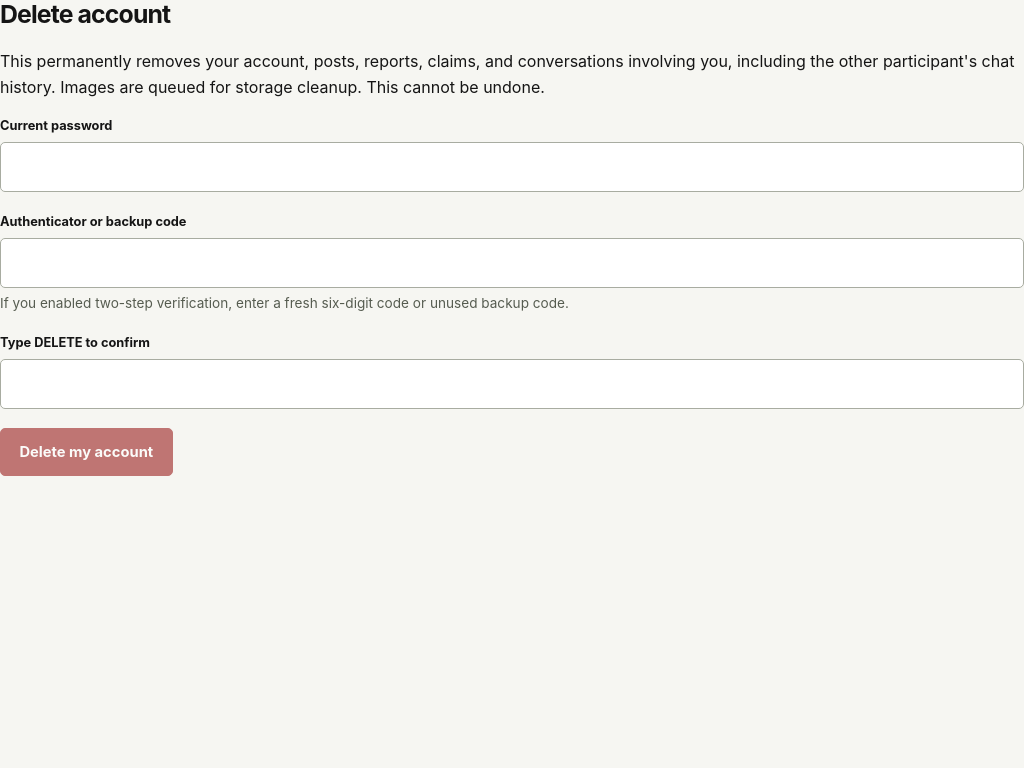
Test: failed account deletion clears credentials and requires a fresh explicit confirmation
The width and height of the screenshot is (1024, 768).
Type "A disposable passphrase" into the password field labelled "Current password" at (512, 167), box [0,142,1023,192]
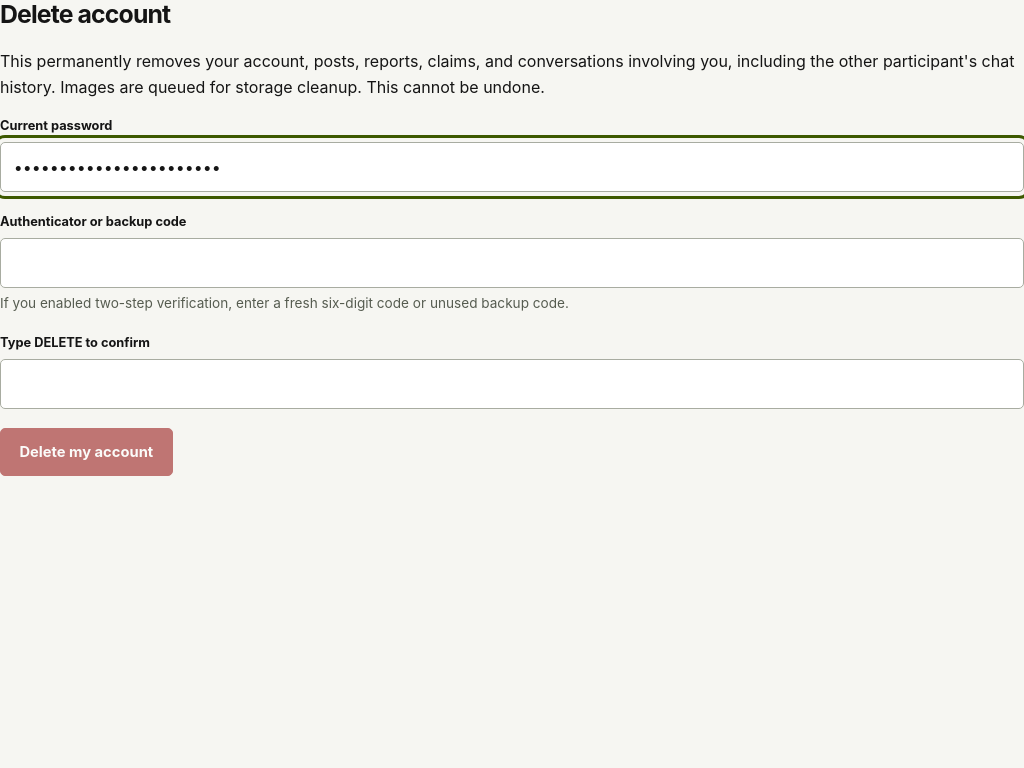
Type "DELETE" into the field labelled "Type DELETE to confirm" at (512, 384), box [0,359,1023,409]
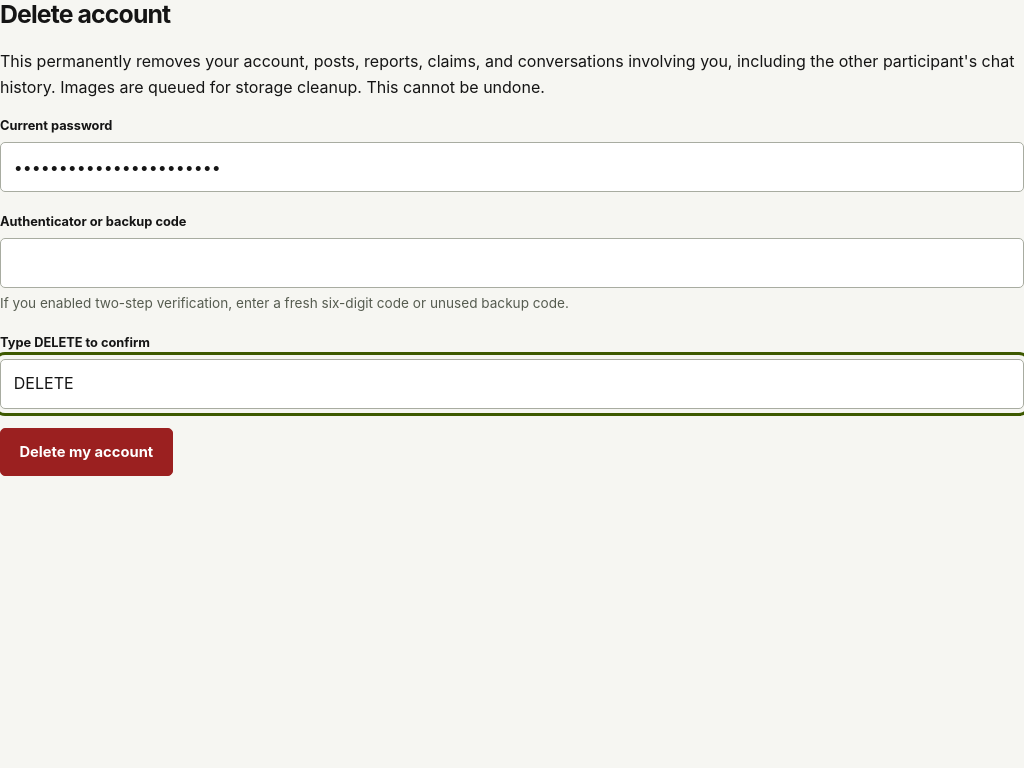
Click the button "Delete my account" at (86, 452), box [0,428,173,476]
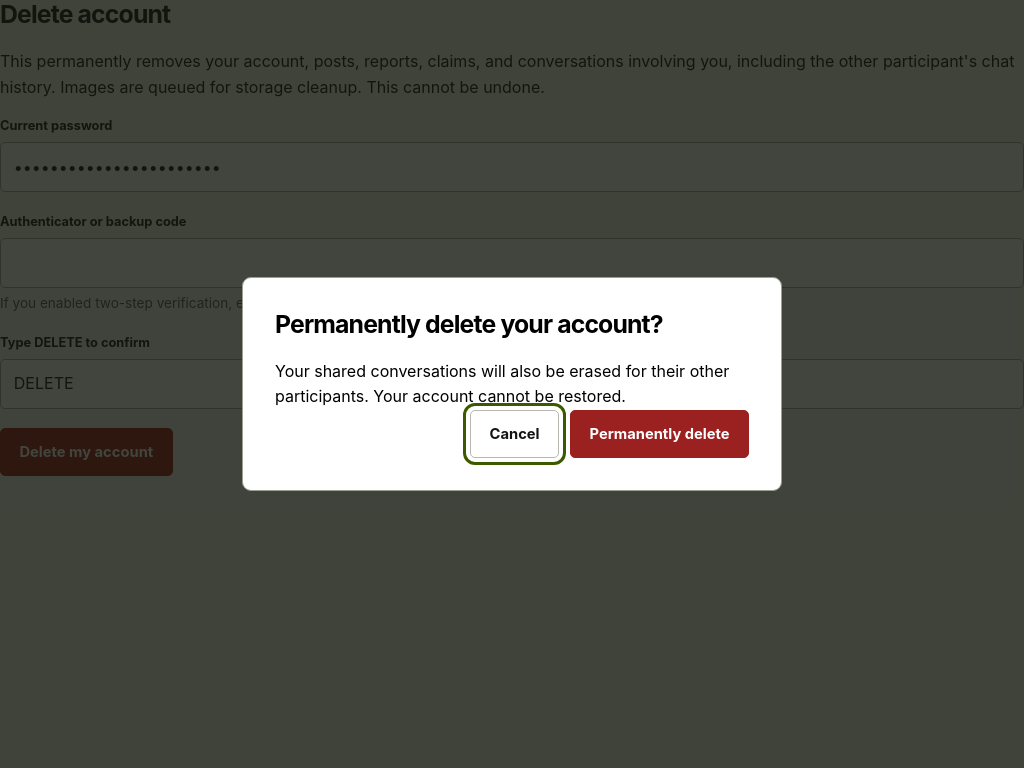
Click the button "Permanently delete" at (660, 434), box [570,410,749,458]
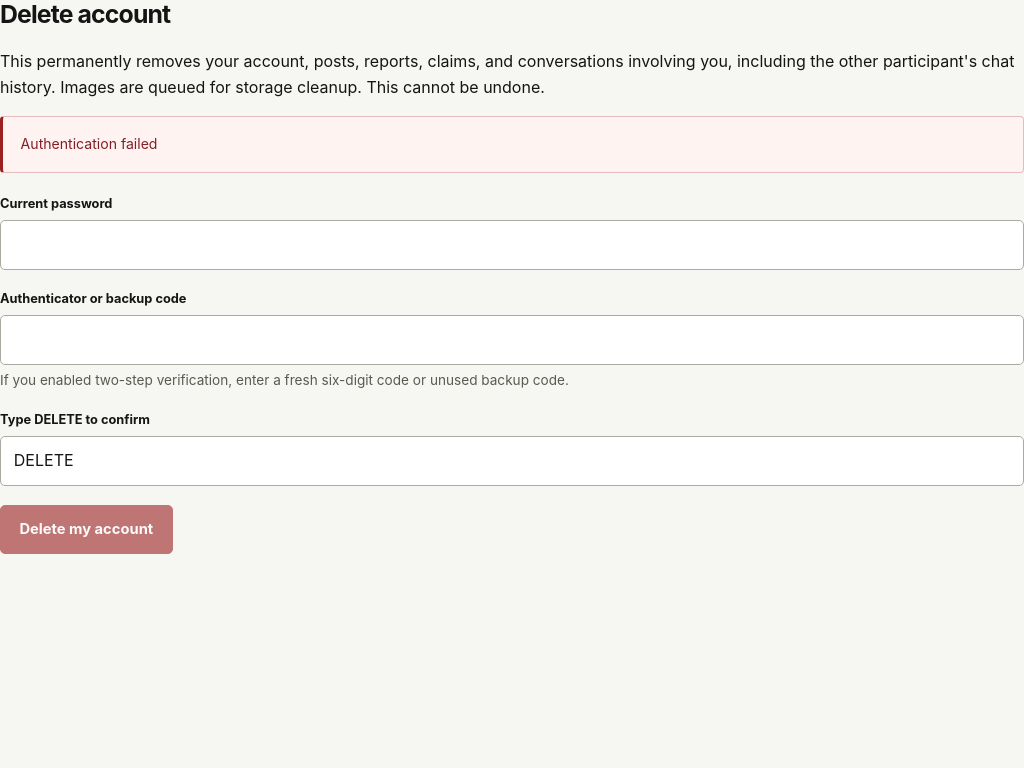
Now the text "Authentication failed" is shown, box [0,116,1023,173]
Now the password field labelled "Current password" is empty, box [0,220,1023,270]
